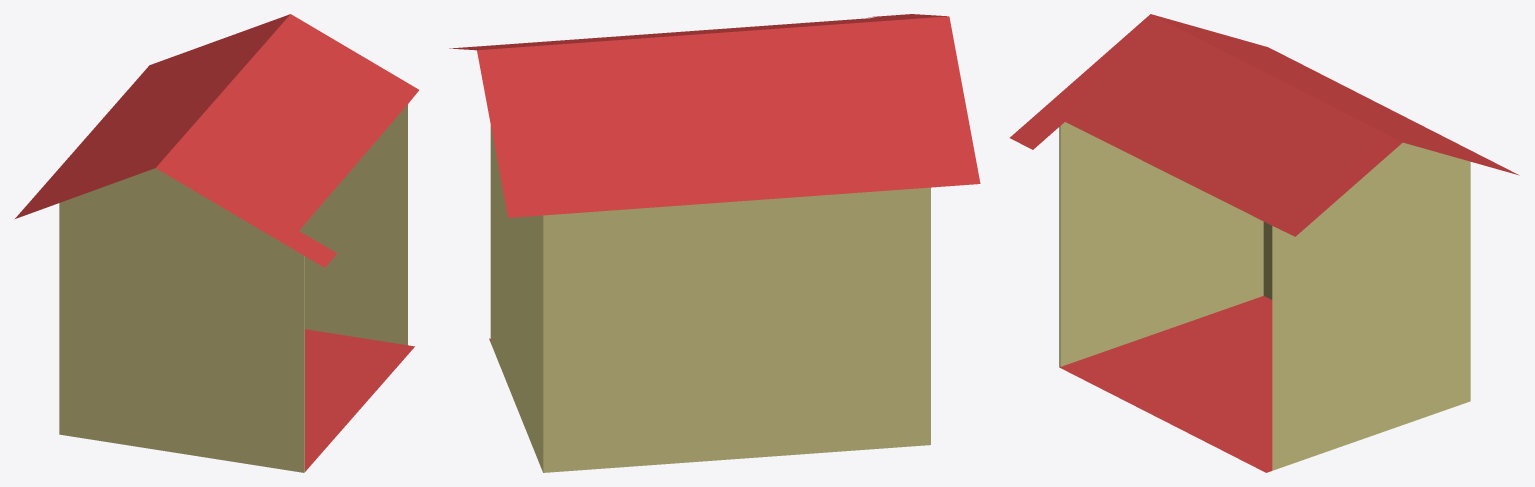
3 renders of one model, left to right at view 1: azimuth 30°, elevation 25°; view 2: azimuth 150°, elevation 25°; view 3: azimuth 270°, elevation 25°, orthographic. The views are drawn at different scales.
Size of the model in its own units: 13.87 by 14.45 by 9.42.
